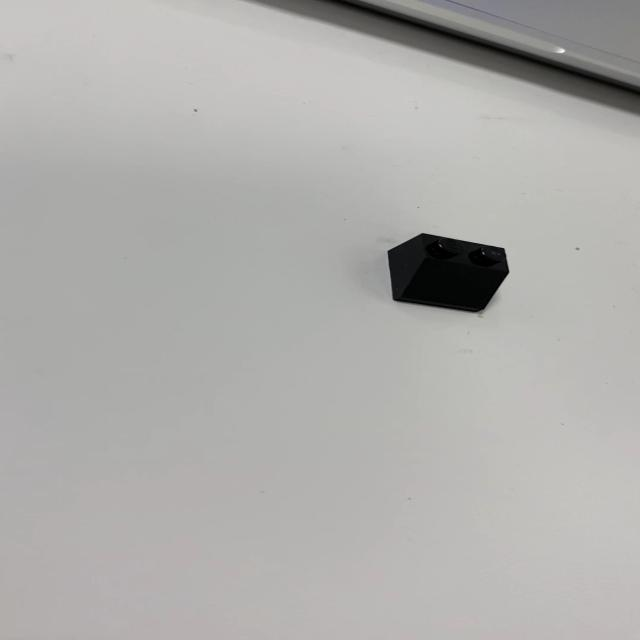P2x2x1: (385, 232, 510, 312)
